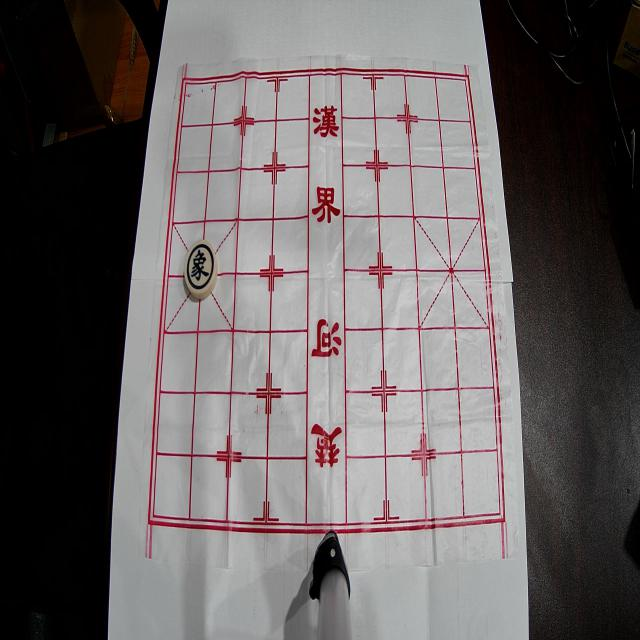black-elephant: (184, 240, 218, 299)
